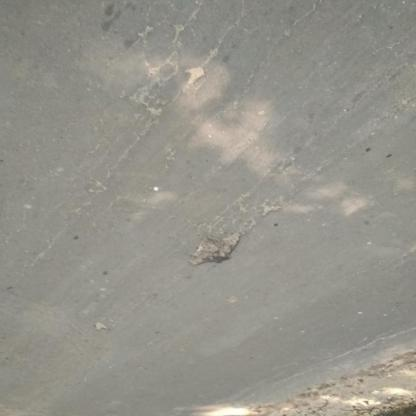pothole: (190, 232, 244, 270), (185, 68, 208, 87), (355, 387, 386, 401), (397, 378, 416, 391), (96, 323, 112, 334), (388, 398, 405, 404), (369, 404, 384, 410), (377, 412, 398, 416), (350, 412, 370, 416), (408, 410, 416, 416), (398, 415, 411, 416)
